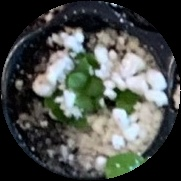Basil: (67, 72, 106, 94), (117, 91, 135, 115)
